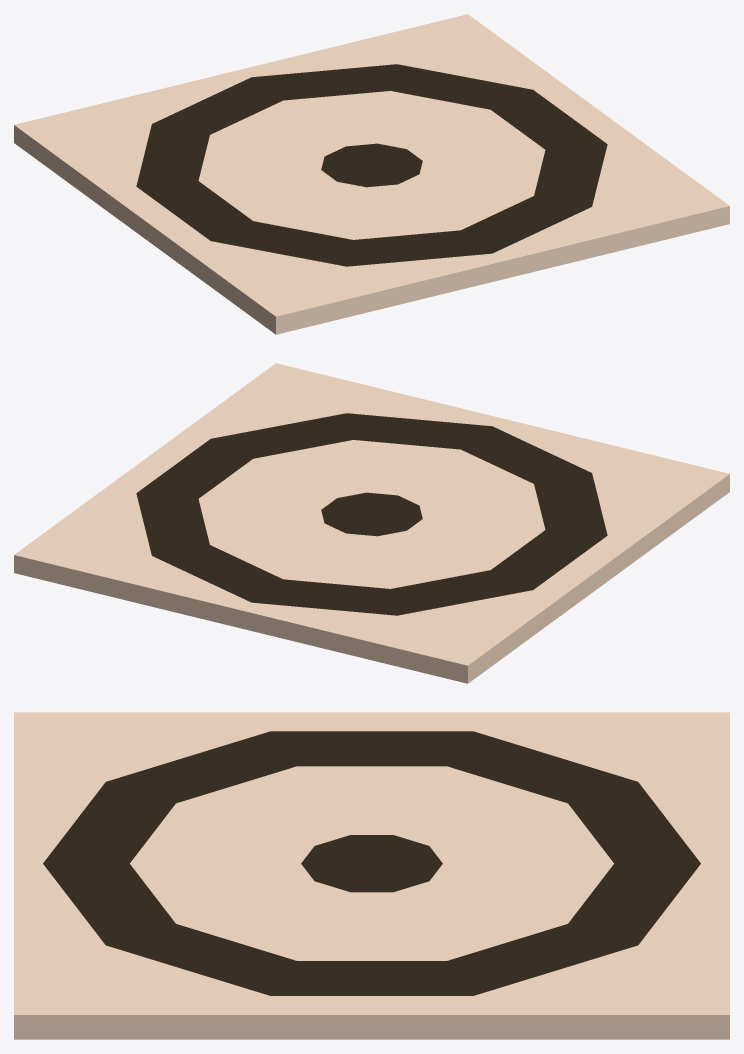
File: Abstract_Castle_Block_Switch_Cream_01.fbx
3 views of the same model, one above another, from view 1: azimuth 30°, elevation 25°; view 2: azimuth 150°, elevation 25°; view 3: azimuth 270°, elevation 25° (orthographic). The views are drawn at different scales.
Visible parts, largest first — view 1: Model; view 2: Model; view 3: Model.
Boxes of the visible parts, x1,y1,x2,y2 form: Model: (14,14,729,334); Model: (14,363,729,683); Model: (14,712,729,1039).
Bounding box in the file's own units: 750 × 28.57 × 750.
